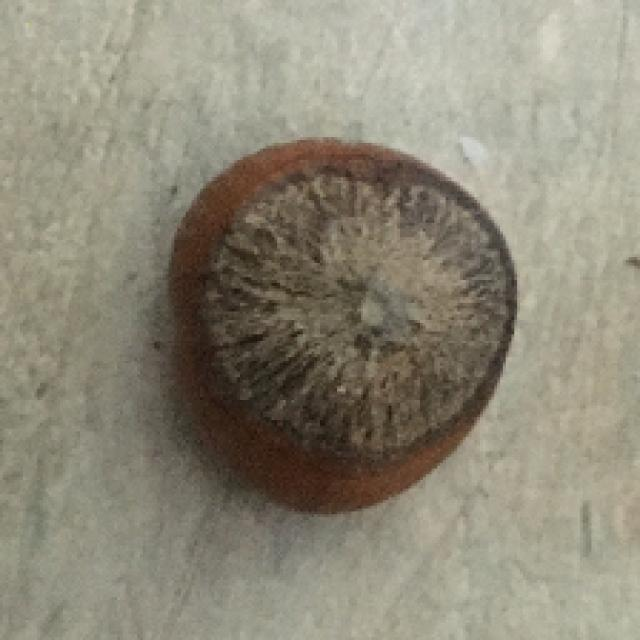damagedHazelnut: (154, 139, 519, 520)
